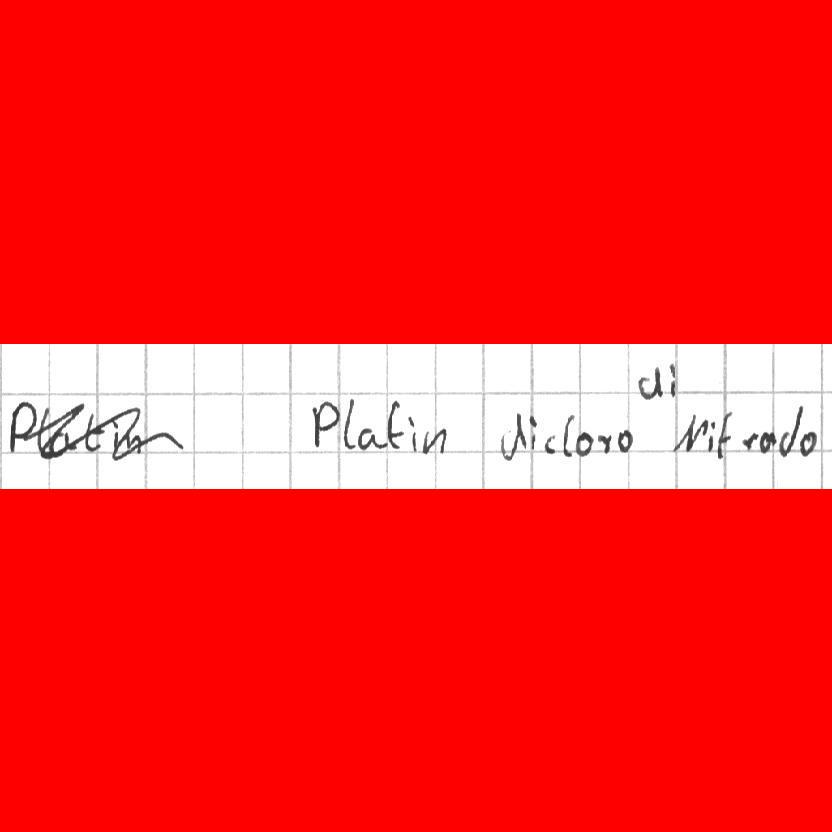Char: (5, 397, 38, 455), (309, 397, 341, 452), (669, 409, 708, 454), (499, 411, 526, 462), (778, 404, 802, 460), (636, 363, 665, 403), (386, 396, 405, 454), (714, 409, 734, 461), (340, 395, 356, 452), (418, 426, 447, 455), (356, 422, 383, 452), (797, 427, 819, 460), (406, 413, 421, 456), (562, 411, 575, 459), (575, 429, 594, 455), (666, 358, 677, 402), (525, 412, 537, 452), (739, 429, 759, 452), (759, 428, 776, 454), (618, 429, 635, 454), (595, 432, 612, 453), (706, 418, 715, 454), (544, 432, 557, 455)
